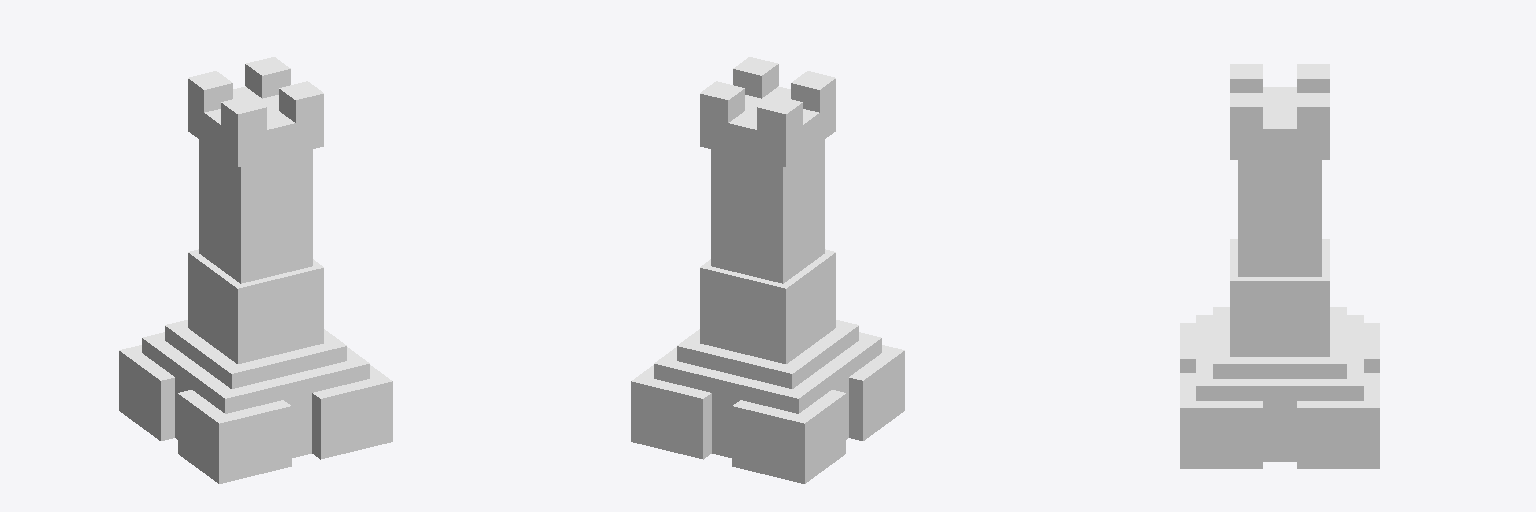
Rendered from rook.red.obj.
3 views of the same model, side by side, from view 1: azimuth 30°, elevation 25°; view 2: azimuth 150°, elevation 25°; view 3: azimuth 270°, elevation 25° (orthographic).
Parts seen in each view (by area): view 1: object 1; view 2: object 1; view 3: object 1.
Part boxes in pixels (left/top/right/bottom): object 1: left=119, top=57, right=392, bottom=483; object 1: left=631, top=57, right=904, bottom=483; object 1: left=1180, top=64, right=1379, bottom=468.
Size of the model in its own units: 2.4 by 4.5 by 2.4.